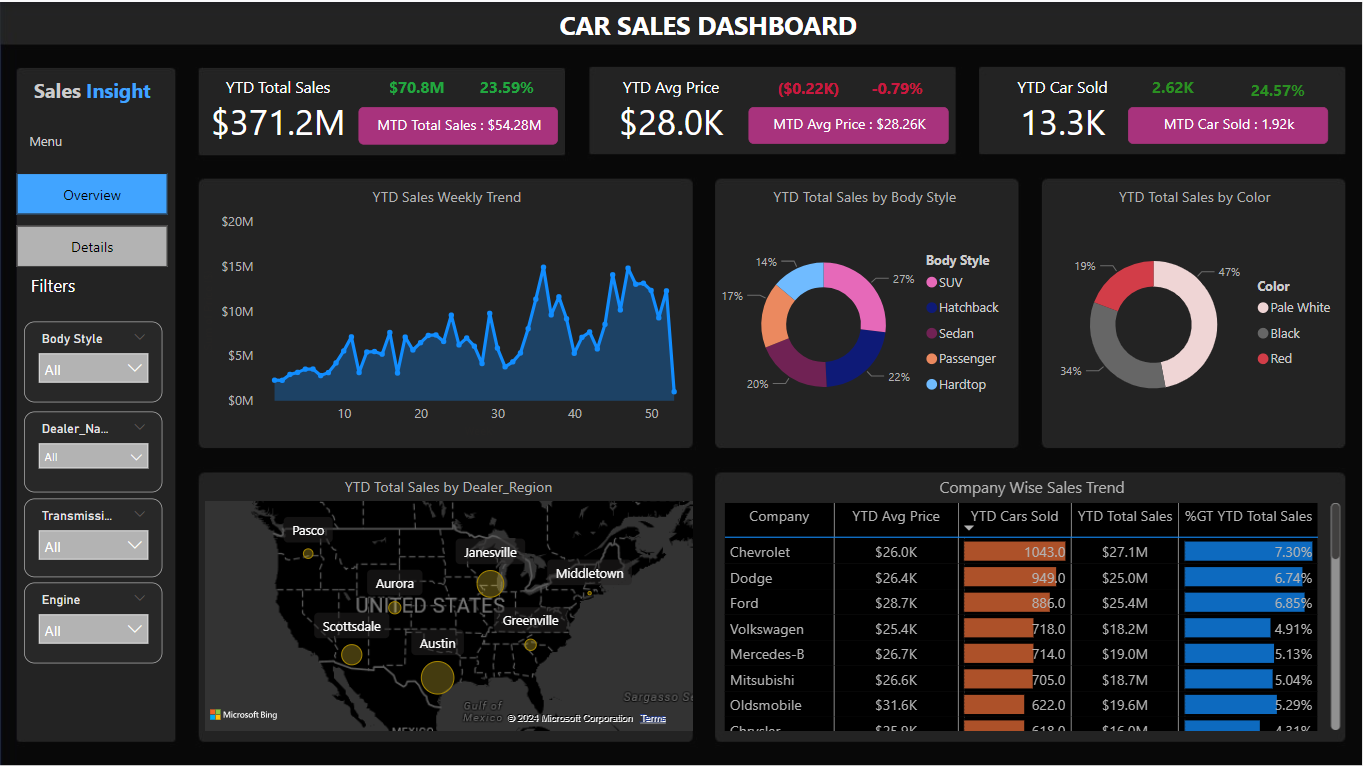

Layout of this report page (visuals, bound fields, positions):
{"tool":"powerbi","page":{"name":"Overview","canvas":[1280,720],"ordinal":0},"visuals":[{"type":"card","title":"YTD Total Sales","fields":{"Values":["car_data.YTD Total Sales"]},"box":[184.7,69.1,152.9,65.1],"z":0},{"type":"card","fields":{"Values":["car_data.Sales Difference"]},"box":[349.6,65.2,83.2,34],"z":1000},{"type":"card","fields":{"Values":["car_data.YoY Sales Growth"]},"box":[434.6,65.2,83.2,34],"z":2000},{"type":"card","fields":{"Values":["car_data.MTD KPI"]},"box":[336.8,98.3,187.4,35.2],"z":3000},{"type":"card","title":"YTD Avg Price","fields":{"Values":["car_data.YTD Avg Price"]},"box":[554.2,69.1,152.9,65.1],"z":4000},{"type":"card","fields":{"Values":["car_data.Avg Price Diff"]},"box":[717.7,65.9,83.3,33.3],"z":5000},{"type":"card","fields":{"Values":["car_data.YoY Price Growth"]},"box":[801,65.9,83.3,33.3],"z":6000},{"type":"card","fields":{"Values":["car_data.MTD Avg Price KPI"]},"box":[702.6,98.5,187.8,34.8],"z":7000},{"type":"card","title":"YTD Car Sold","fields":{"Values":["car_data.YTD Cars Sold"]},"box":[922.2,69.1,152.9,65.1],"z":8000},{"type":"card","fields":{"Values":["car_data.\\Car Sold Diff"]},"box":[1059.9,65.1,83.3,33.3],"z":9000},{"type":"card","fields":{"Values":["car_data.YoY Car Sold Growth"]},"box":[1158.4,68.1,83.3,33.3],"z":10000},{"type":"card","fields":{"Values":["car_data.MTD Car Sold KPI"]},"box":[1059.9,98.5,187.8,34.8],"z":11000},{"type":"stackedAreaChart","title":"YTD Sales Weekly Trend","fields":{"Category":["Calender Table.Week"],"Y":["Sum(car_data.Price ($))"]},"box":[185.2,173.9,470.6,240],"z":12000},{"type":"donutChart","fields":{"Category":["car_data.Body Style"],"Y":["car_data.YTD Total Sales"]},"box":[672.1,173.3,280.4,240.9],"z":13000},{"type":"donutChart","fields":{"Y":["car_data.YTD Total Sales"],"Category":["car_data.Color"]},"box":[980.7,173.3,283.2,240.9],"z":14000},{"type":"map","fields":{"Size":["car_data.YTD Total Sales"],"Category":["car_data.Dealer_Region"]},"box":[187.8,445.2,467.9,243.8],"z":15000},{"type":"tableEx","title":"Company Wise Sales Trend","fields":{"Values":["car_data.Company","car_data.YTD Avg Price","car_data.YTD Cars Sold","car_data.YTD Total Sales1","car_data.YTD Total Sales"]},"box":[675.3,445.2,589,243.8],"z":16000},{"type":"slicer","title":"Body Style","fields":{"Values":["car_data.Body Style"]},"box":[22.7,299.8,130.2,75.7],"z":17000},{"type":"slicer","title":"Body Style","fields":{"Values":["car_data.Dealer_Name"]},"box":[22.7,384.6,130.2,75.7],"z":18000},{"type":"slicer","title":"Body Style","fields":{"Values":["car_data.Transmission"]},"box":[22.7,466.4,130.2,74.2],"z":19000},{"type":"slicer","title":"Body Style","fields":{"Values":["car_data.Engine"]},"box":[22.7,545.1,130.2,75.7],"z":20000},{"type":"textbox","box":[23.3,250,91.7,43.3],"z":21000},{"type":"textbox","box":[502.7,0,324,43.9],"z":22000},{"type":"pageNavigator","box":[15.5,160.6,142.3,88.8],"z":23000},{"type":"textbox","box":[15.5,64.8,142.3,36.6],"z":24000},{"type":"textbox","box":[22.5,115.5,55,29.6],"z":25000}]}

Visuals, with their boxes in screenshot pixels (x1, y1, x2, y2), scaled from the page's 1280x720 canvas onto the 1363x766 screenshot:
"YTD Total Sales" card: pyautogui.locateOnScreen(197, 74, 359, 143)
card - car_data.Sales Difference: pyautogui.locateOnScreen(372, 69, 461, 106)
card - car_data.YoY Sales Growth: pyautogui.locateOnScreen(463, 69, 551, 106)
card - car_data.MTD KPI: pyautogui.locateOnScreen(359, 105, 558, 142)
"YTD Avg Price" card: pyautogui.locateOnScreen(590, 74, 753, 143)
card - car_data.Avg Price Diff: pyautogui.locateOnScreen(764, 70, 853, 106)
card - car_data.YoY Price Growth: pyautogui.locateOnScreen(853, 70, 942, 106)
card - car_data.MTD Avg Price KPI: pyautogui.locateOnScreen(748, 105, 948, 142)
"YTD Car Sold" card: pyautogui.locateOnScreen(982, 74, 1145, 143)
card - car_data.\Car Sold Diff: pyautogui.locateOnScreen(1129, 69, 1217, 105)
card - car_data.YoY Car Sold Growth: pyautogui.locateOnScreen(1234, 72, 1322, 108)
card - car_data.MTD Car Sold KPI: pyautogui.locateOnScreen(1129, 105, 1329, 142)
"YTD Sales Weekly Trend" stackedAreaChart: pyautogui.locateOnScreen(197, 185, 698, 440)
donutChart - car_data.Body Style x car_data.YTD Total Sales: pyautogui.locateOnScreen(716, 184, 1014, 441)
donutChart - car_data.YTD Total Sales x car_data.Color: pyautogui.locateOnScreen(1044, 184, 1346, 441)
map - car_data.YTD Total Sales x car_data.Dealer_Region: pyautogui.locateOnScreen(200, 474, 698, 733)
"Company Wise Sales Trend" tableEx: pyautogui.locateOnScreen(719, 474, 1346, 733)
"Body Style" slicer: pyautogui.locateOnScreen(24, 319, 163, 399)
"Body Style" slicer: pyautogui.locateOnScreen(24, 409, 163, 490)
"Body Style" slicer: pyautogui.locateOnScreen(24, 496, 163, 575)
"Body Style" slicer: pyautogui.locateOnScreen(24, 580, 163, 660)
textbox: pyautogui.locateOnScreen(25, 266, 122, 312)
textbox: pyautogui.locateOnScreen(535, 0, 880, 47)
pageNavigator: pyautogui.locateOnScreen(17, 171, 168, 265)
textbox: pyautogui.locateOnScreen(17, 69, 168, 108)
textbox: pyautogui.locateOnScreen(24, 123, 83, 154)
